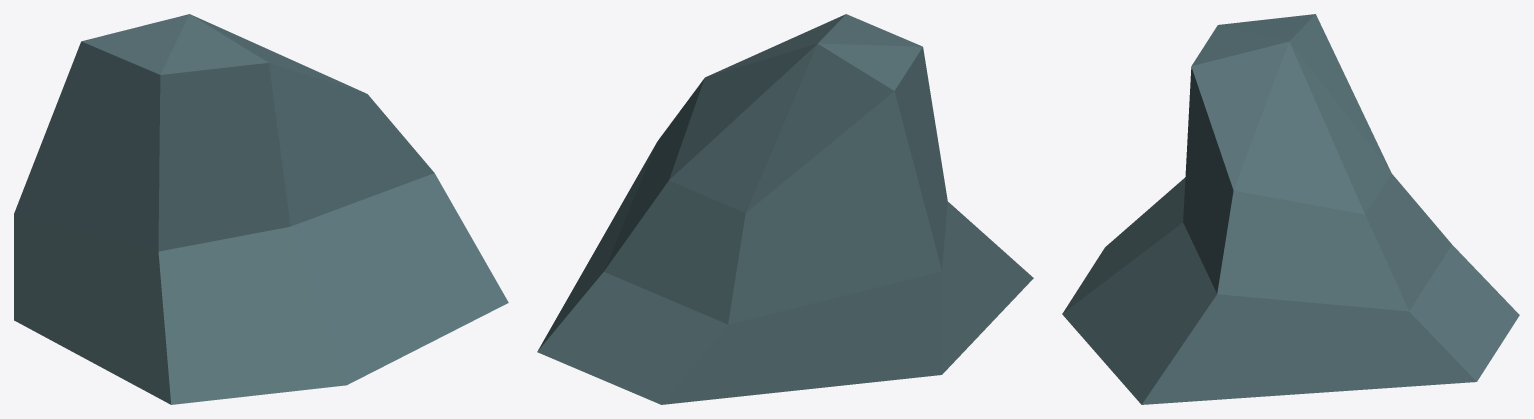
Rendered from rock3.glb.
The picture shows the model from 3 angles, left to right: view 1: azimuth 30°, elevation 25°; view 2: azimuth 150°, elevation 25°; view 3: azimuth 270°, elevation 25°; orthographic projection. The views are drawn at different scales.
Parts seen in each view (by area): view 1: камень3; view 2: камень3; view 3: камень3.
Part boxes in pixels (<box>): камень3: <box>14,14,508,404</box>; камень3: <box>537,14,1033,404</box>; камень3: <box>1062,14,1519,404</box>.
Size of the model in its own units: 1.02 by 0.7214 by 1.16.
1 material, 1 textured.
